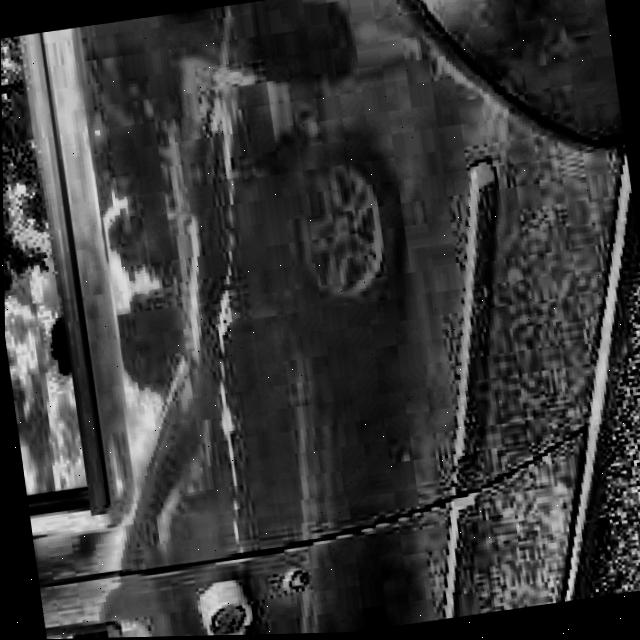door_scratch: (140, 49, 321, 551)
